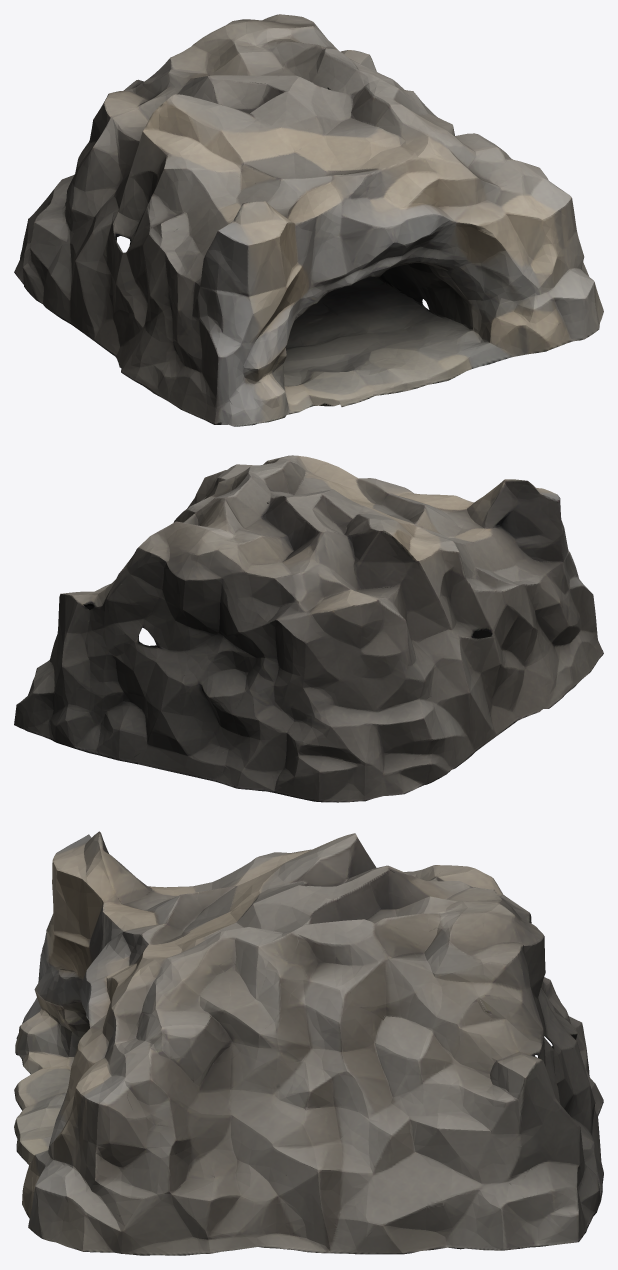
3 views of the same model, one above another, from view 1: azimuth 30°, elevation 25°; view 2: azimuth 150°, elevation 25°; view 3: azimuth 270°, elevation 25° (orthographic). The views are drawn at different scales.
Parts seen in each view (by area): view 1: world; view 2: world; view 3: world.
Boxes of the visible parts, left/top/right/bottom form: world: left=14, top=14, right=603, bottom=426; world: left=14, top=455, right=603, bottom=802; world: left=14, top=831, right=603, bottom=1255.
Size of the model in its own units: 0.9877 by 0.462 by 0.9907.
Materials: 1 (1 with a texture image).
